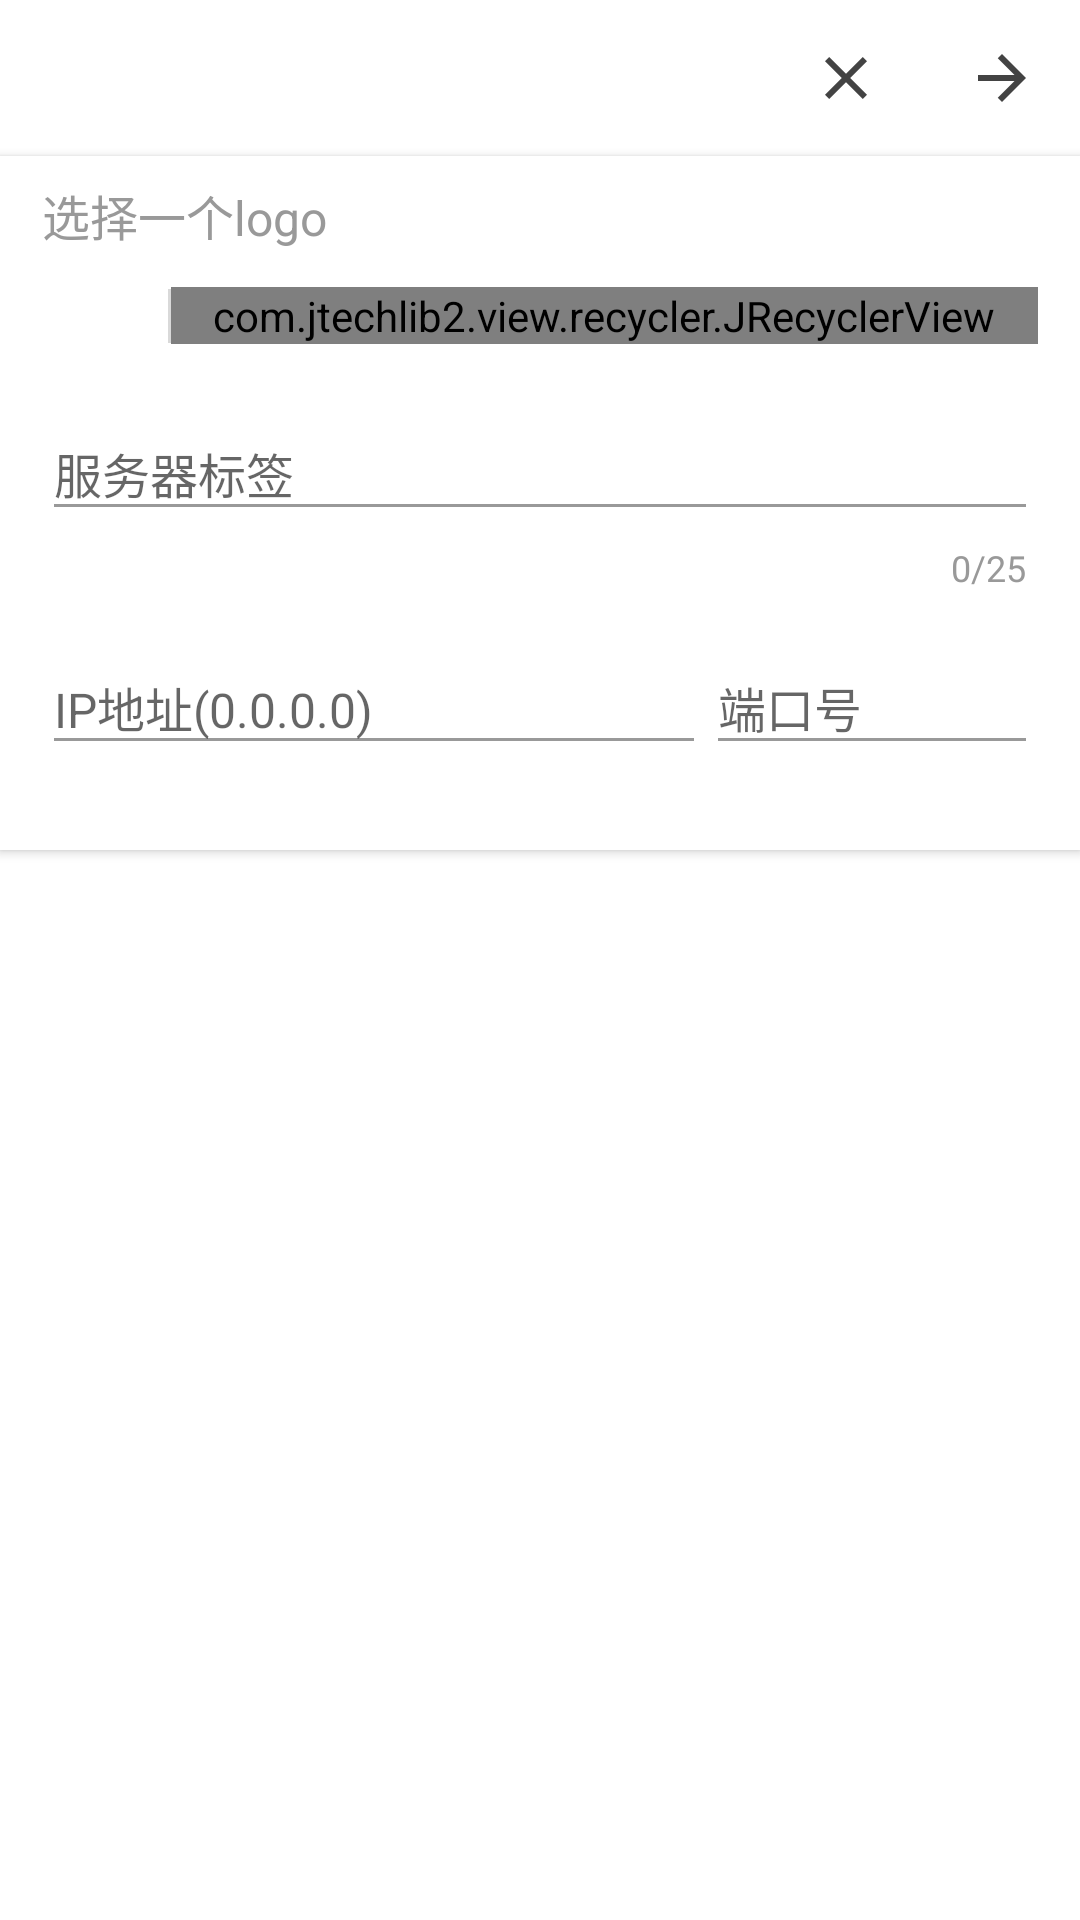

Icon bounding boxes for this 1080px×1920px phone screenshot, format [x1, y1, x2, y2]:
sheet close: [825, 57, 867, 99]
sheet forward: [978, 54, 1026, 102]
